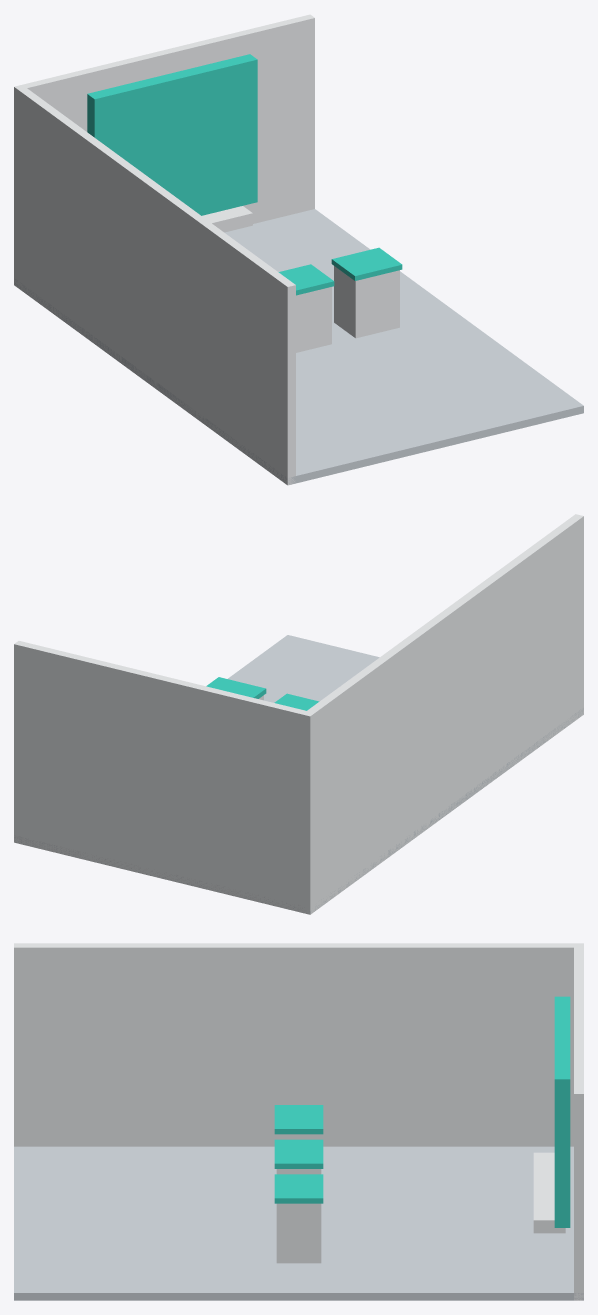
3 views of the same model, one above another, from view 1: azimuth 30°, elevation 25°; view 2: azimuth 150°, elevation 25°; view 3: azimuth 270°, elevation 25° (orthographic). The views are drawn at different scales.
Parts seen in each view (by area): view 1: Exhibition Booth Concept; view 2: Exhibition Booth Concept; view 3: Exhibition Booth Concept.
Part boxes in pixels (x1,y1,x2,y2): Exhibition Booth Concept: (14, 14, 583, 485); Exhibition Booth Concept: (14, 514, 583, 914); Exhibition Booth Concept: (14, 943, 583, 1300).
Size of the model in its own units: 5 by 3.2 by 8.
